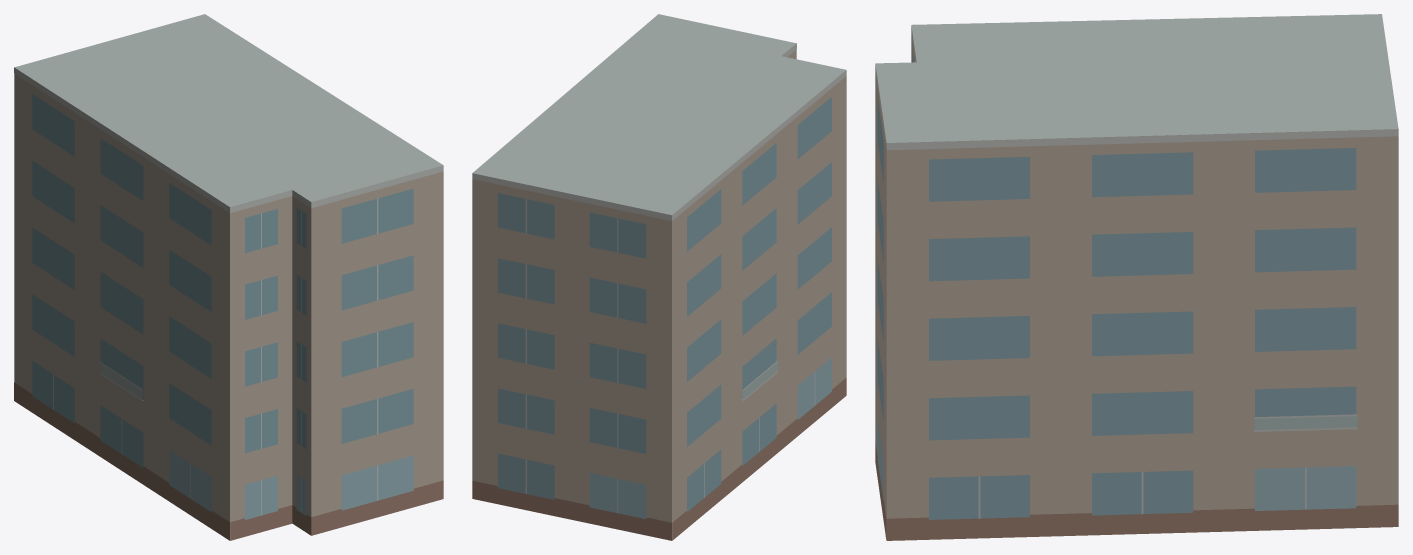
Rendered from survey-upis-32930732.glb.
The picture shows the model from 3 angles, left to right: view 1: azimuth 30°, elevation 25°; view 2: azimuth 150°, elevation 25°; view 3: azimuth 270°, elevation 25°; orthographic projection. The views are drawn at different scales.
Parts seen in each view (by area): view 1: survey-upis-32930732.tmp; view 2: survey-upis-32930732.tmp; view 3: survey-upis-32930732.tmp.
Boxes of the visible parts, x1,y1,x2,y2 form: survey-upis-32930732.tmp: [14, 14, 443, 540]; survey-upis-32930732.tmp: [472, 14, 846, 540]; survey-upis-32930732.tmp: [875, 14, 1398, 540].
Bounding box in the file's own units: 9.4 × 13.5 × 16.1.
